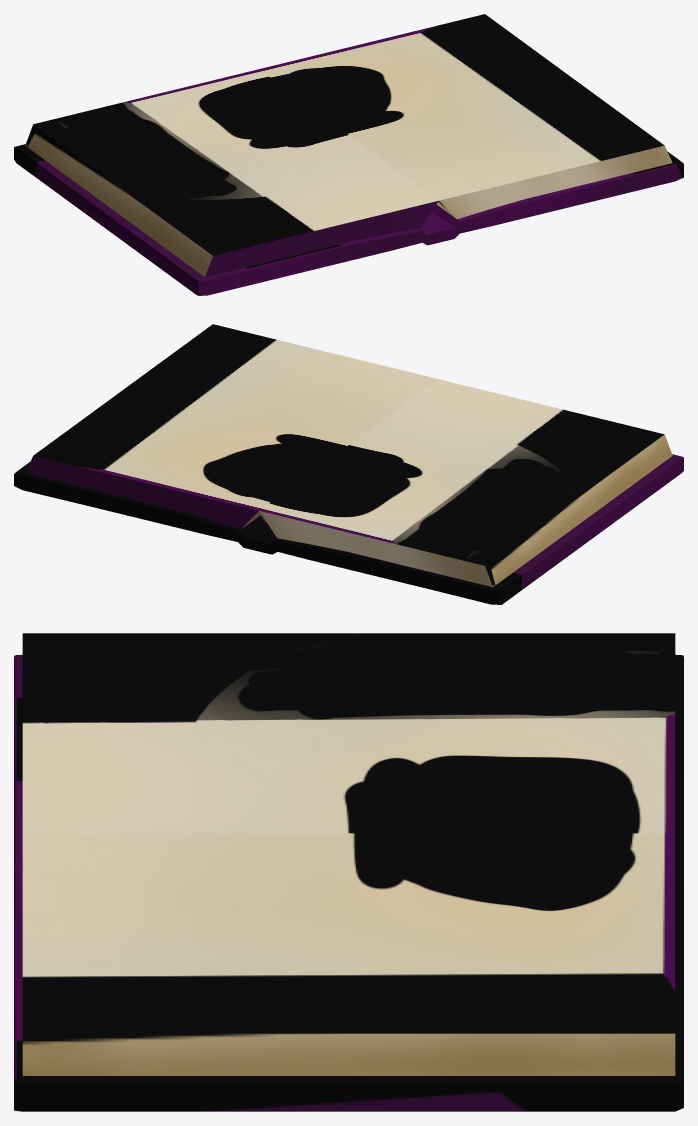
File: book_beta.fbx
3 renders of one model, top to bottom at view 1: azimuth 30°, elevation 25°; view 2: azimuth 150°, elevation 25°; view 3: azimuth 270°, elevation 25°, orthographic. The views are drawn at different scales.
Parts seen in each view (by area): view 1: pCube4; view 2: pCube4; view 3: pCube4.
Boxes of the visible parts, x1,y1,x2,y2 form: pCube4: [14, 14, 683, 295]; pCube4: [14, 324, 683, 604]; pCube4: [14, 633, 683, 1111].
Size of the model in its own units: 28.88 by 2.31 by 19.01.
